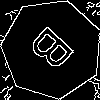B: (27, 24, 83, 80)
